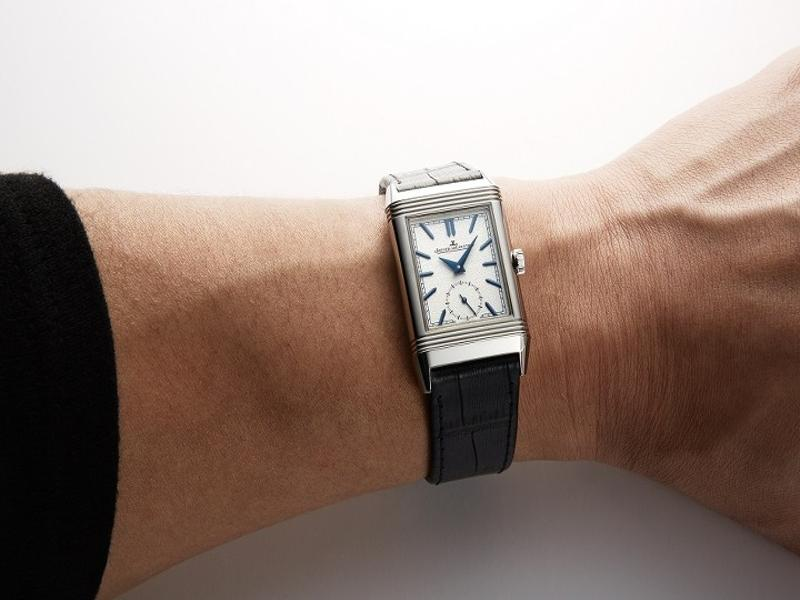watch: (377, 158, 532, 486)
